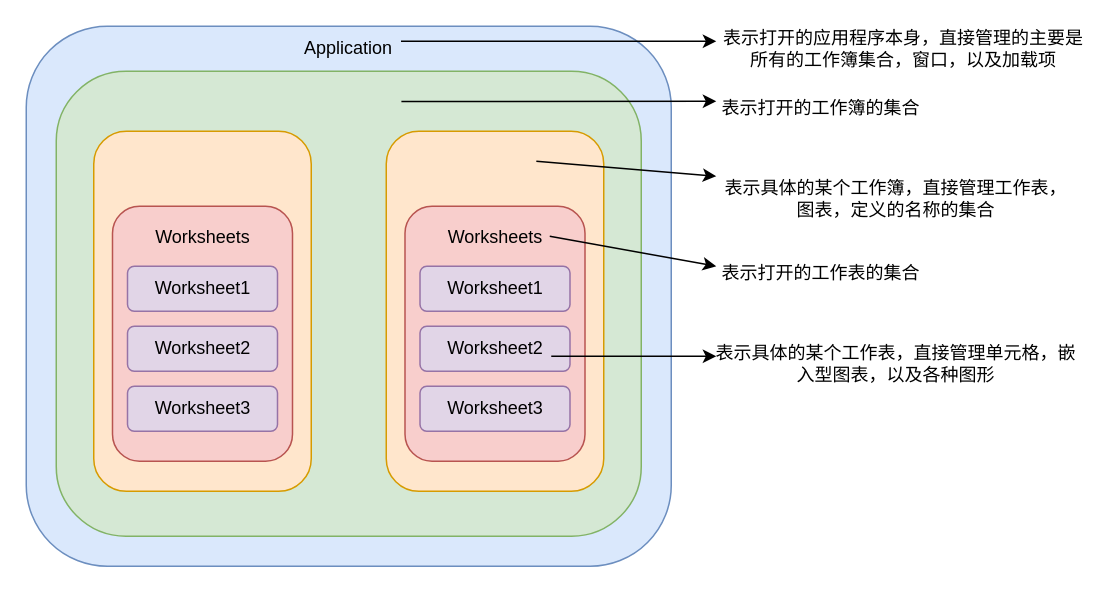
Some shapes in this 1118 by 593 pixel diagram are drawn without their labels. Each missing label, with the box of its shape:
Workbook1: (92, 130, 311, 491)
Workbook2: (385, 130, 604, 491)
Workbooks: (55, 70, 641, 536)
